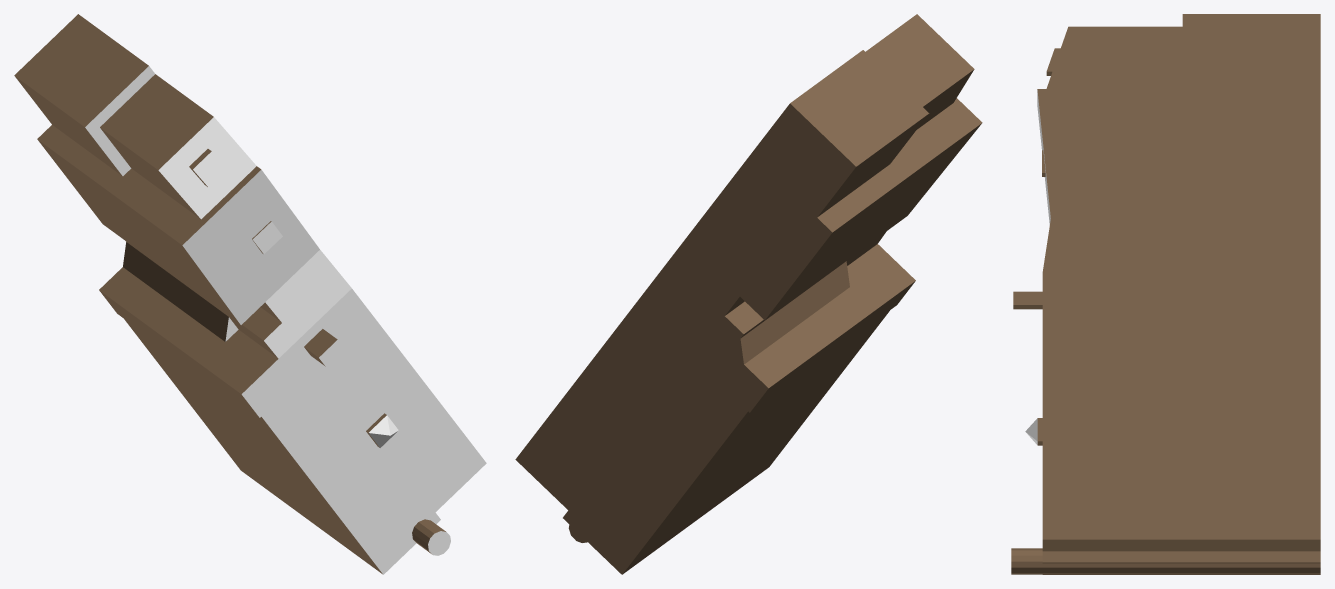
3 views of the same model, side by side, from view 1: azimuth 30°, elevation 25°; view 2: azimuth 150°, elevation 25°; view 3: azimuth 270°, elevation 25° (orthographic). The views are drawn at different scales.
Visible parts, largest first — view 1: City_PC-08706; view 2: City_PC-08706; view 3: City_PC-08706.
Boxes of the visible parts, x1,y1,x2,y2 form: City_PC-08706: [14, 14, 486, 574]; City_PC-08706: [515, 14, 982, 574]; City_PC-08706: [1011, 14, 1320, 574].
Bounding box in the file's own units: 1952 × 2805 × 1624.
